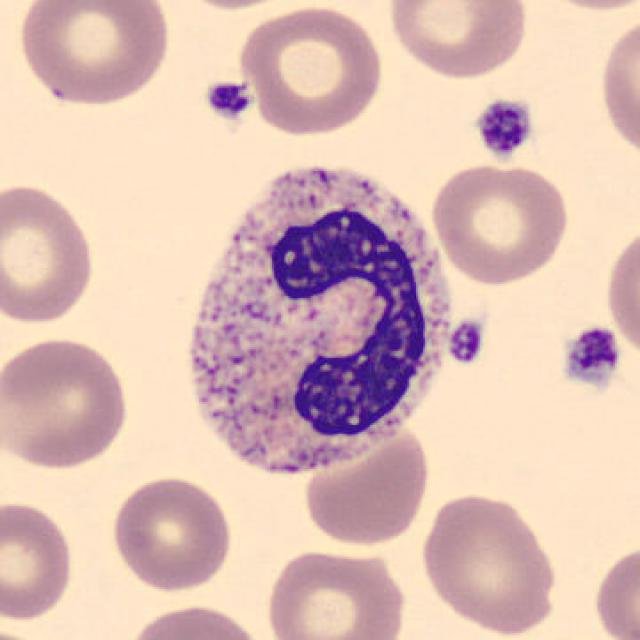Neutrophil: (165, 150, 475, 495)
Platelets: (558, 322, 624, 392), (473, 95, 535, 159), (201, 77, 256, 121), (445, 317, 487, 367)
RBC: (416, 488, 564, 636), (235, 2, 388, 138), (427, 160, 572, 288), (0, 333, 133, 472), (12, 0, 175, 109), (298, 421, 434, 550), (106, 473, 236, 594), (0, 178, 100, 328), (261, 545, 411, 640), (382, 0, 532, 81), (0, 498, 78, 622), (594, 9, 638, 166), (601, 217, 640, 368), (122, 601, 266, 640), (588, 539, 638, 640), (166, 0, 310, 14), (522, 0, 640, 14), (0, 624, 59, 640)
